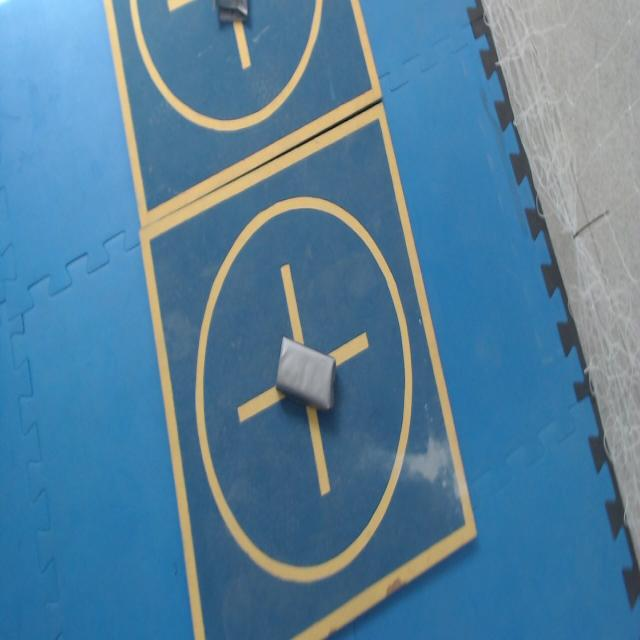lipo: (276, 337, 336, 409), (216, 0, 248, 21)
